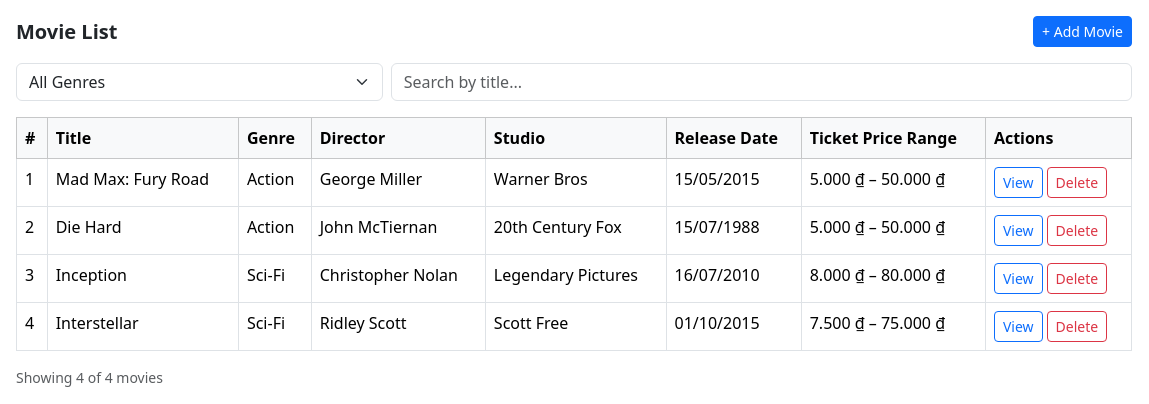
it: MovieList — TODO-07 › TODO-07: selecting a genre filters movies
Select "Sci-Fi" in the dropdown at [199, 82], box [16, 63, 383, 101]
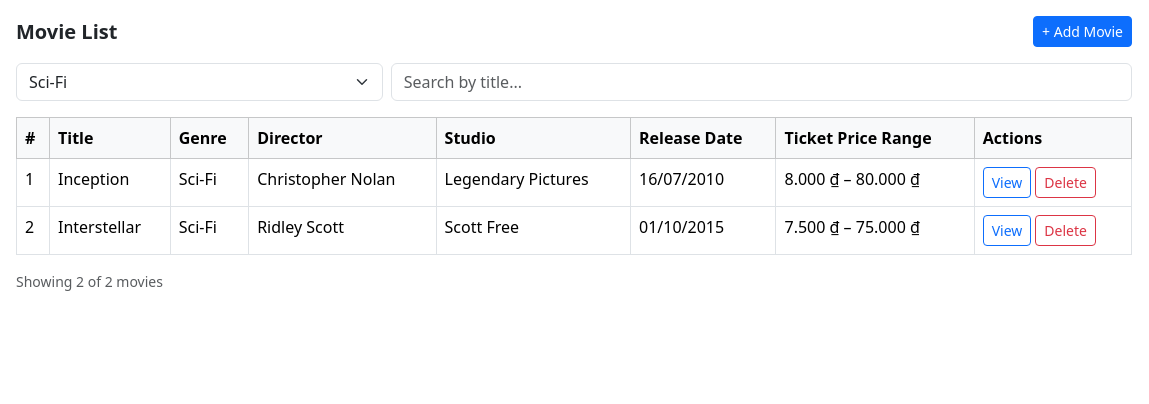
Expected: the text "Inception" is shown, [50, 158, 170, 206]
Expected: the text "Mad Max: Fury Road" is gone
Expected: the text "Die Hard" is gone
